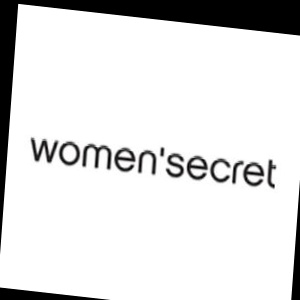women_secret: (269, 94, 299, 217)
